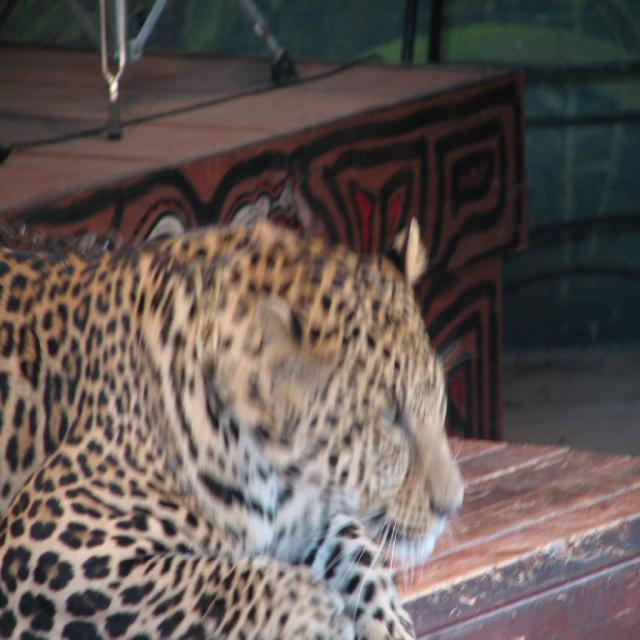Cheetah: (0, 217, 465, 640)
